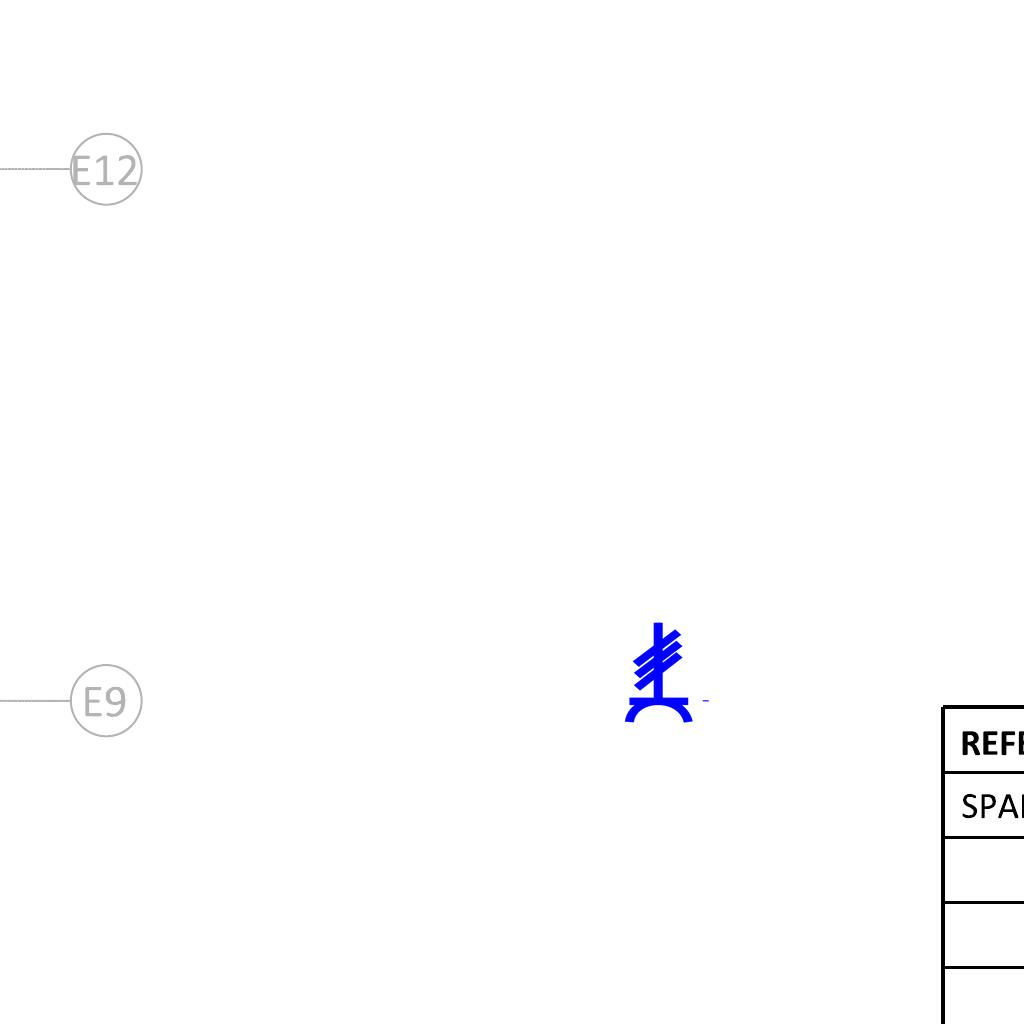CEE_Drehstrom_Steckdose_16_32_A: (622, 621, 712, 725)
